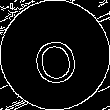O_N: (28, 25, 82, 85)
